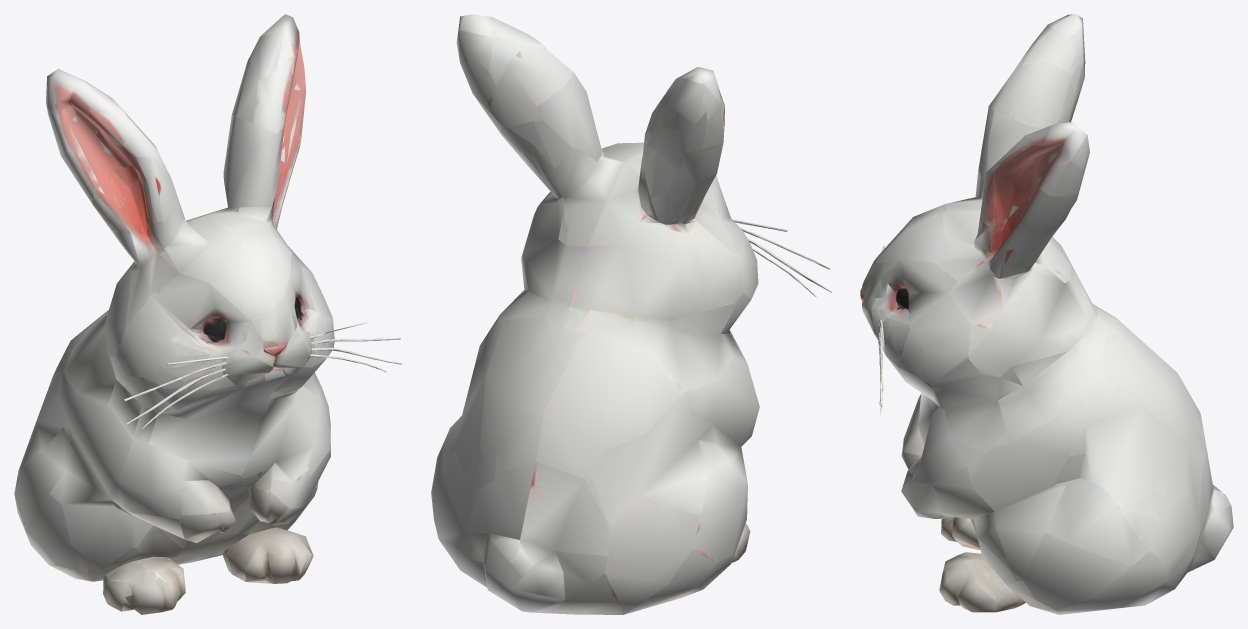
Rendered from farm-rabbit.glb.
The picture shows the model from 3 angles, left to right: view 1: azimuth 30°, elevation 25°; view 2: azimuth 150°, elevation 25°; view 3: azimuth 270°, elevation 25°; orthographic projection. The views are drawn at different scales.
Size of the model in its own units: 1.08 by 1.9 by 1.28.
Materials: 1 (1 with a texture image).
